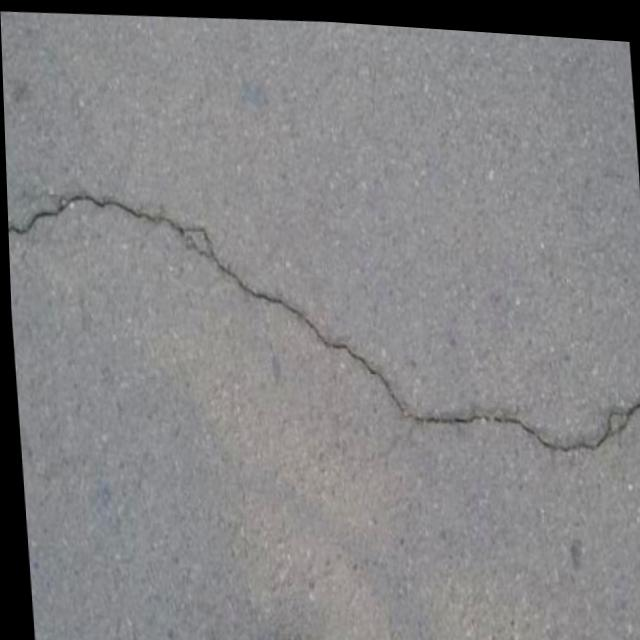Crack: (5, 160, 640, 480)
